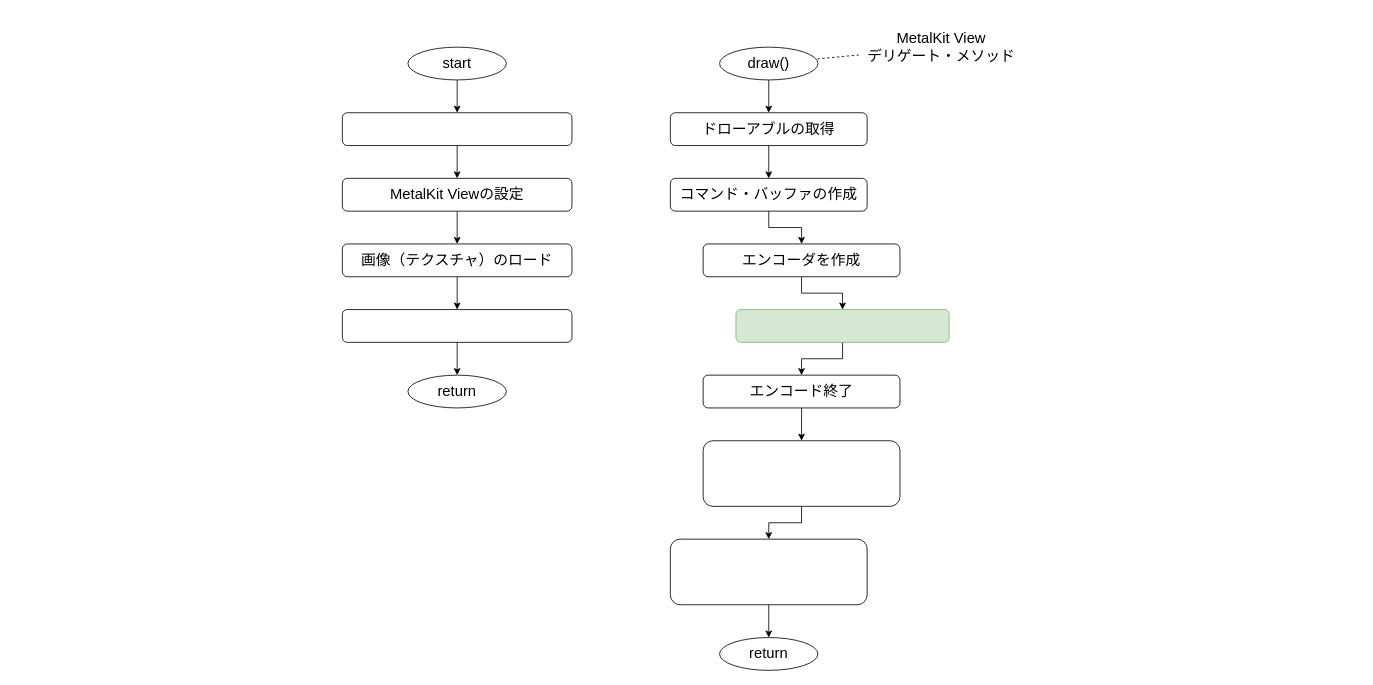
The diagram is 1373 pixels wide and 685 high, and some of its shapes have lost their labels. Each missing label, with the box of its shape:
GPUの取得: (342, 112, 572, 146)
コマンド・キューの作成: (342, 309, 572, 342)
コマンド・バッファを キューに登録: (670, 538, 867, 605)
ドローアブルを コマンド・バッファに渡す: (702, 440, 900, 506)
描画リソースをエンコード: (735, 309, 949, 342)
